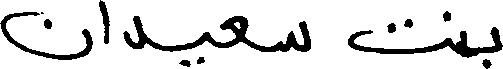X: (0, 7, 90, 64), (349, 6, 447, 58), (280, 16, 309, 56), (221, 11, 246, 52), (125, 11, 143, 53), (491, 22, 502, 68), (99, 0, 107, 48), (203, 27, 210, 67), (461, 26, 466, 61)
